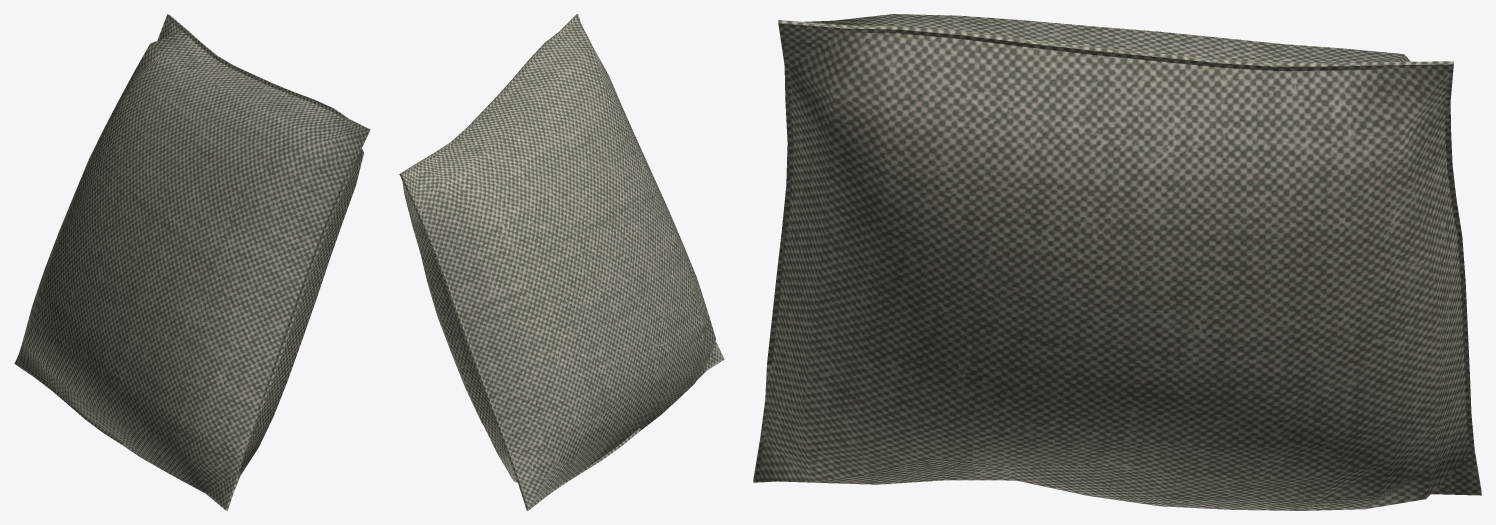
Rendered from Pillow1.fbx.
The picture shows the model from 3 angles, left to right: view 1: azimuth 30°, elevation 25°; view 2: azimuth 150°, elevation 25°; view 3: azimuth 270°, elevation 25°; orthographic projection. The views are drawn at different scales.
Parts seen in each view (by area): view 1: Pillow.003; view 2: Pillow.003; view 3: Pillow.003.
Part boxes in pixels (x1,y1,x2,y2): Pillow.003: [14, 14, 370, 510]; Pillow.003: [399, 14, 724, 510]; Pillow.003: [753, 14, 1481, 510].
Size of the model in its own units: 32.08 by 55.42 by 60.83.
1 material, 1 textured.
